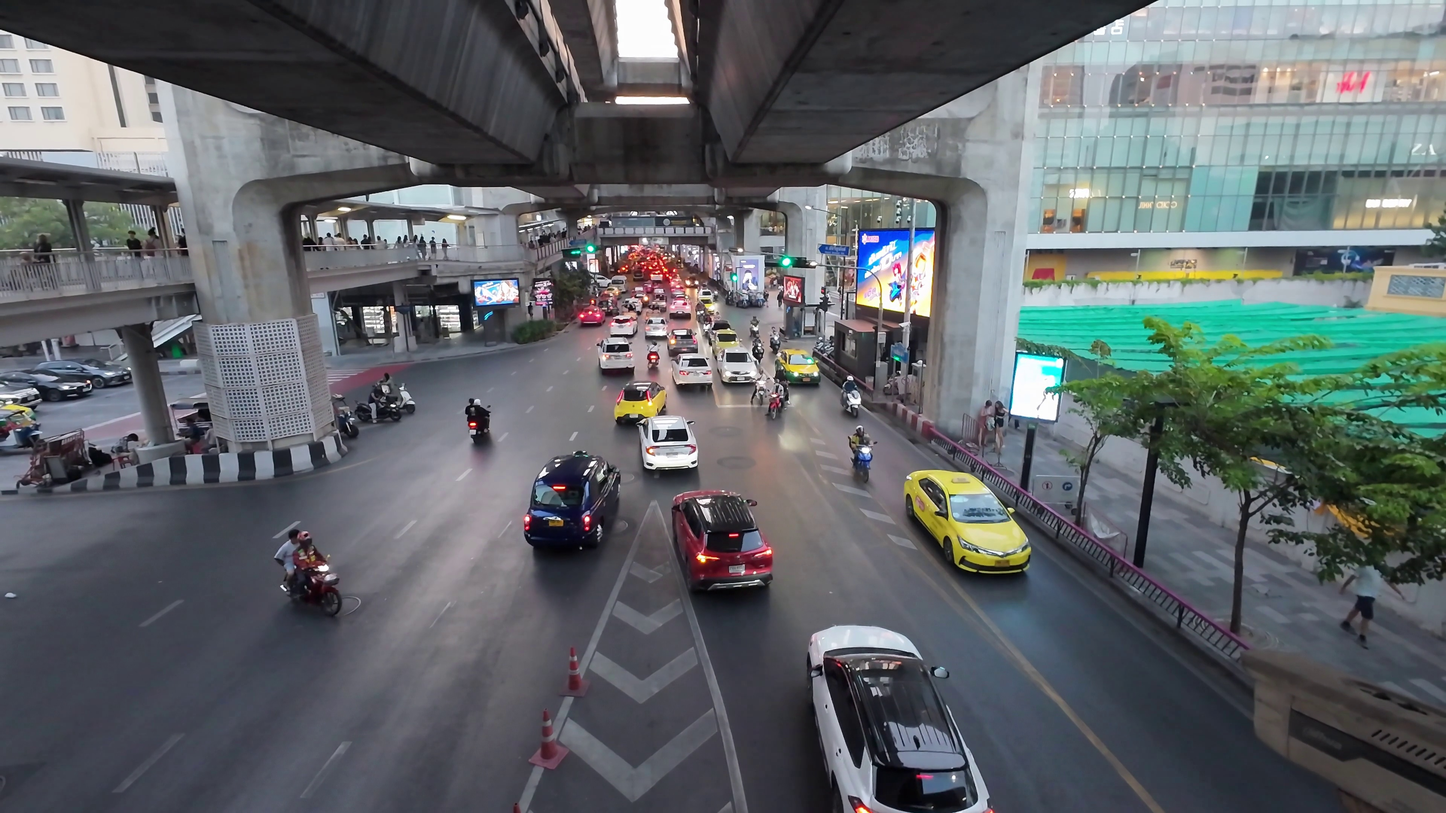license_plate: (853, 737, 944, 797), (936, 533, 1000, 569), (695, 549, 748, 582), (548, 512, 597, 544), (654, 451, 685, 471), (31, 386, 76, 399), (294, 597, 326, 614), (378, 408, 403, 421), (471, 430, 485, 442)
motorcycle: (278, 549, 342, 618), (366, 373, 416, 424), (464, 397, 493, 444)
no_seatbelt: (835, 652, 962, 746), (923, 484, 1013, 539), (685, 503, 758, 554), (538, 466, 607, 516), (647, 424, 691, 454), (23, 368, 84, 388)
